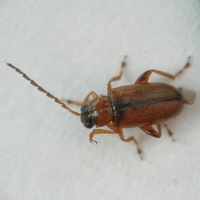insect: (6, 55, 195, 159)
